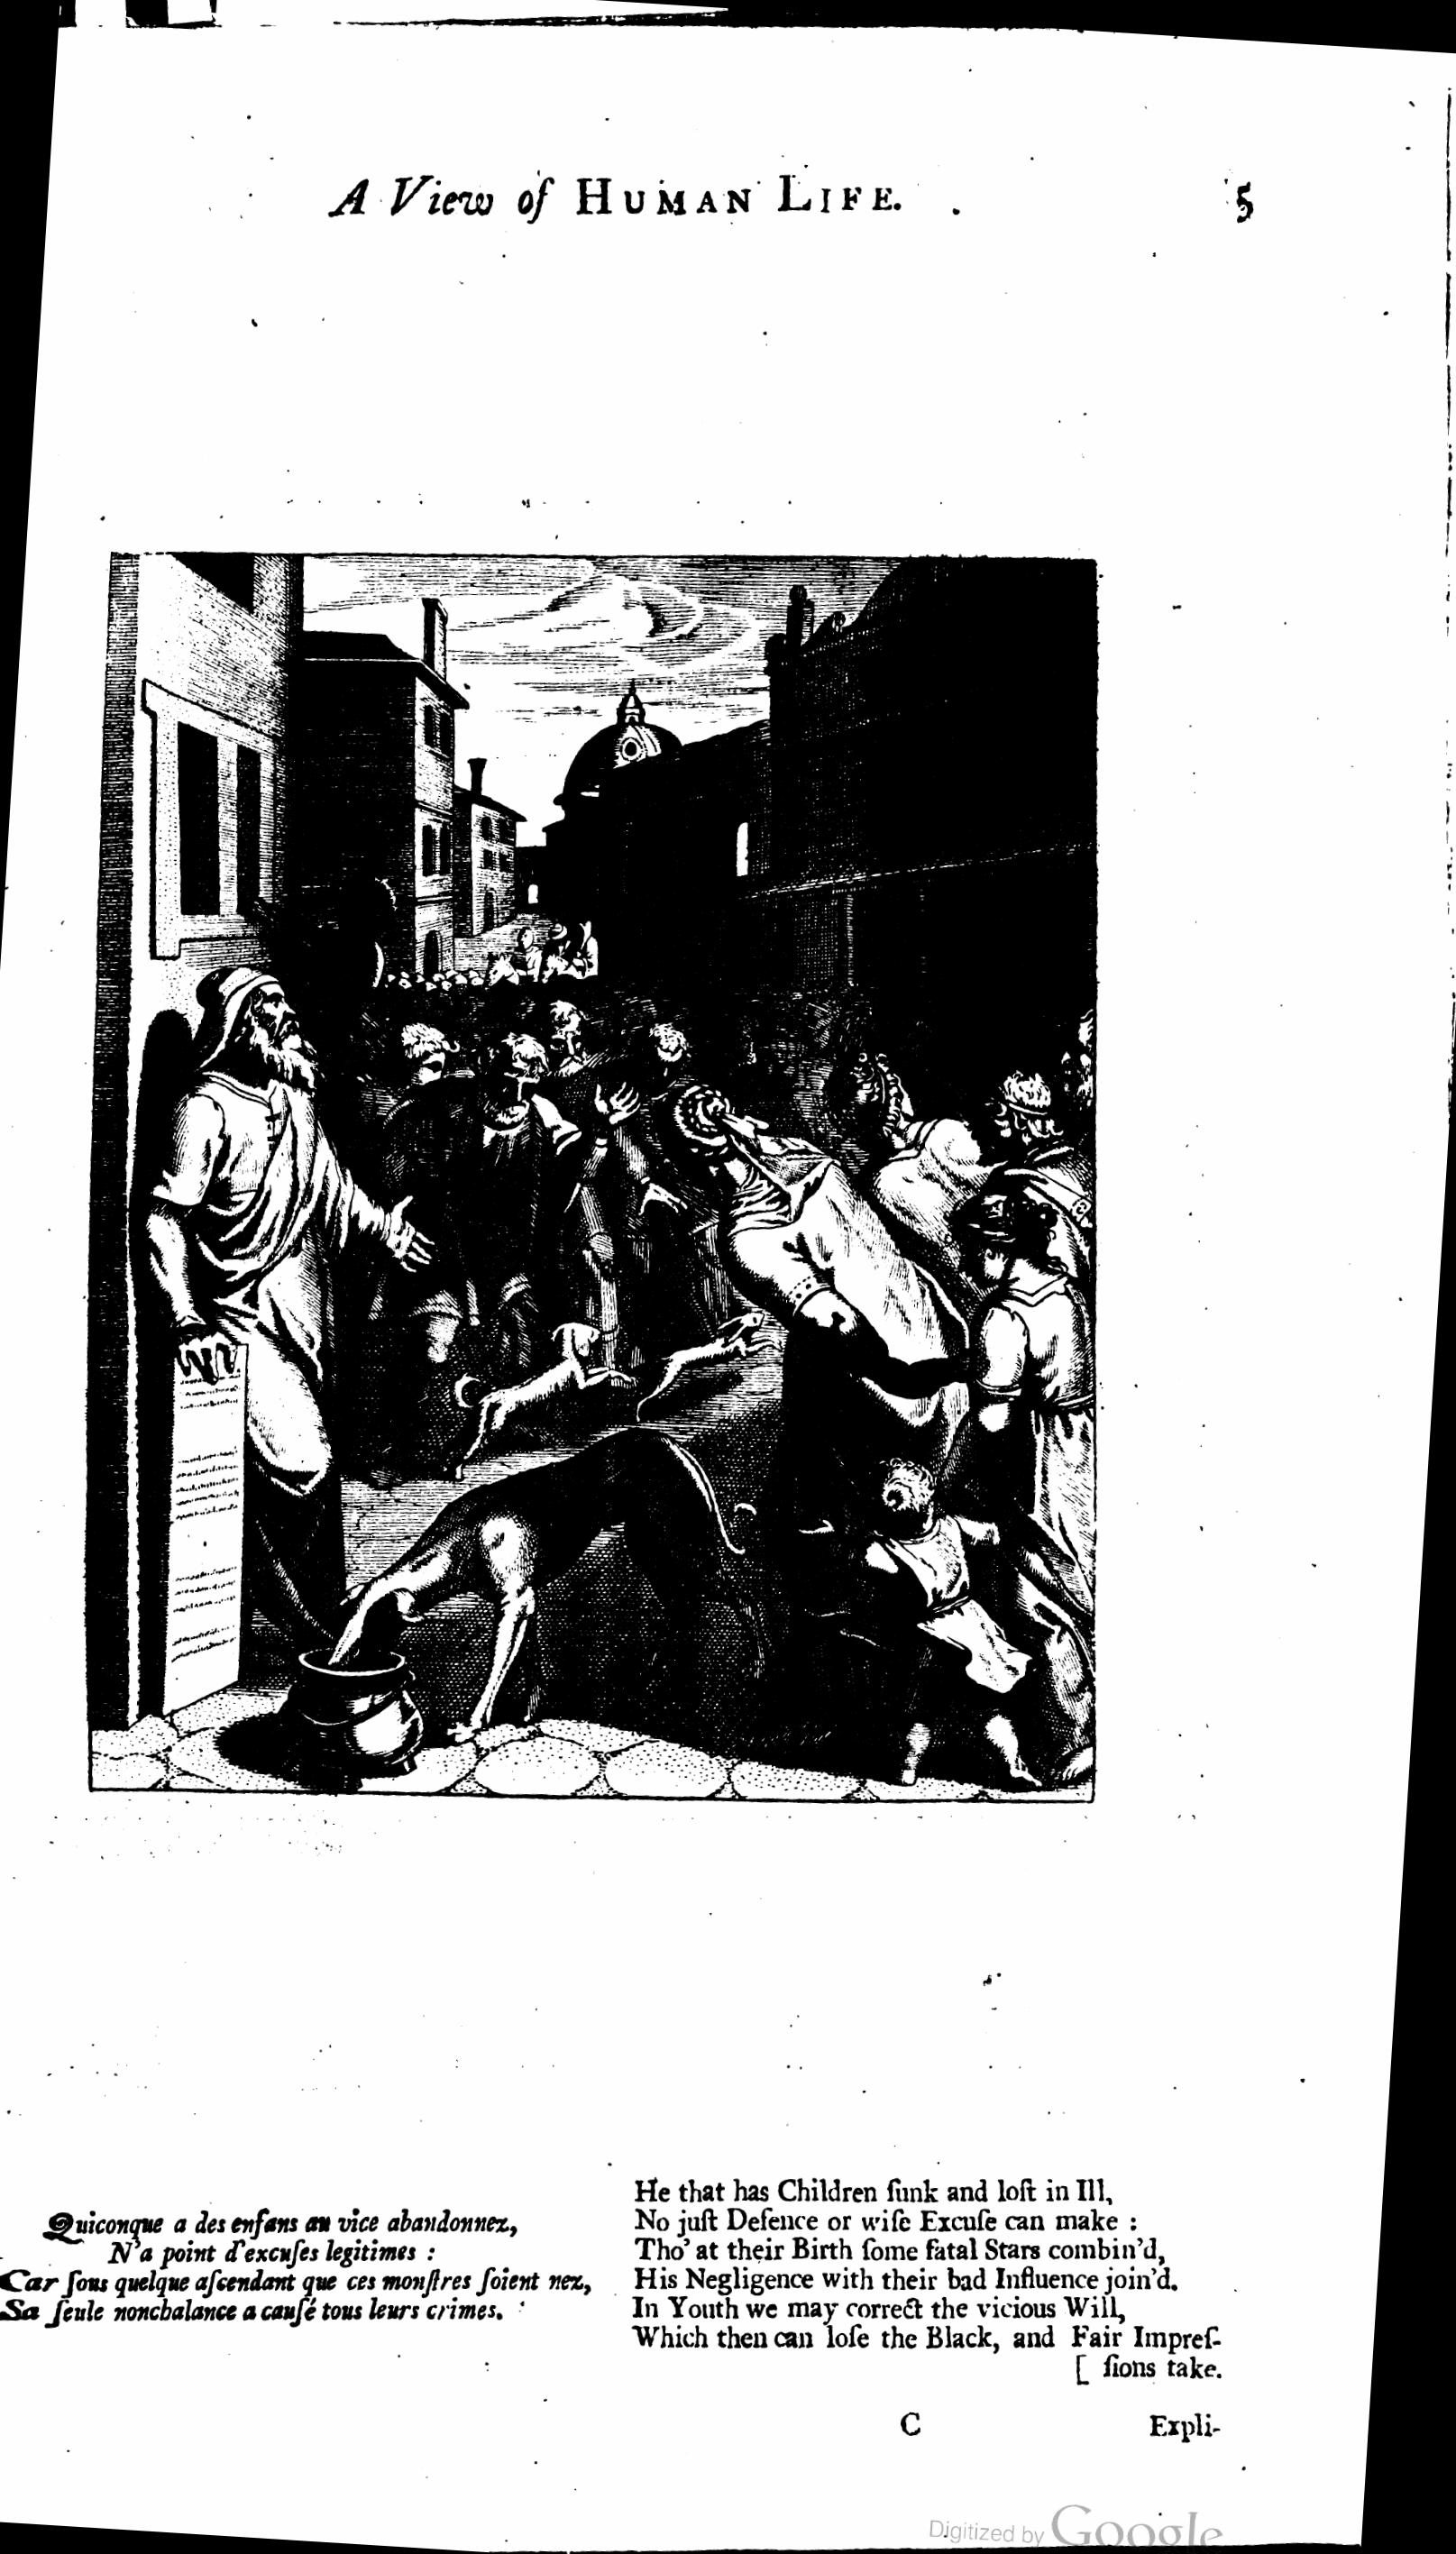catchword: (1142, 2410, 1224, 2445)
header: (323, 163, 914, 235)
page_num: (1230, 175, 1260, 226)
signature: (891, 2405, 931, 2440)
top_p: (632, 2175, 1228, 2387), (2, 2207, 596, 2331)
viz: (75, 539, 1109, 1814)
